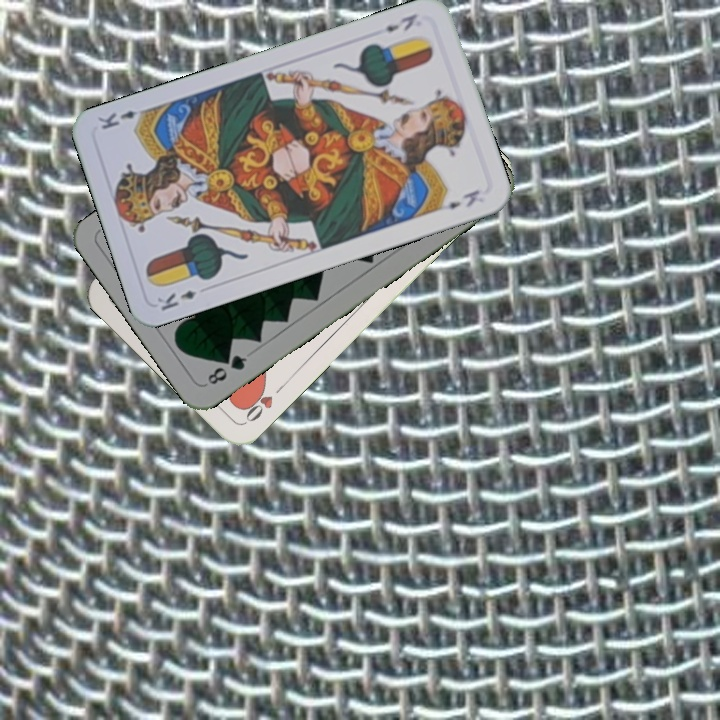EK: (153, 286, 199, 314), (381, 9, 420, 35)
G8: (203, 350, 250, 388)
HO: (237, 380, 288, 426)
